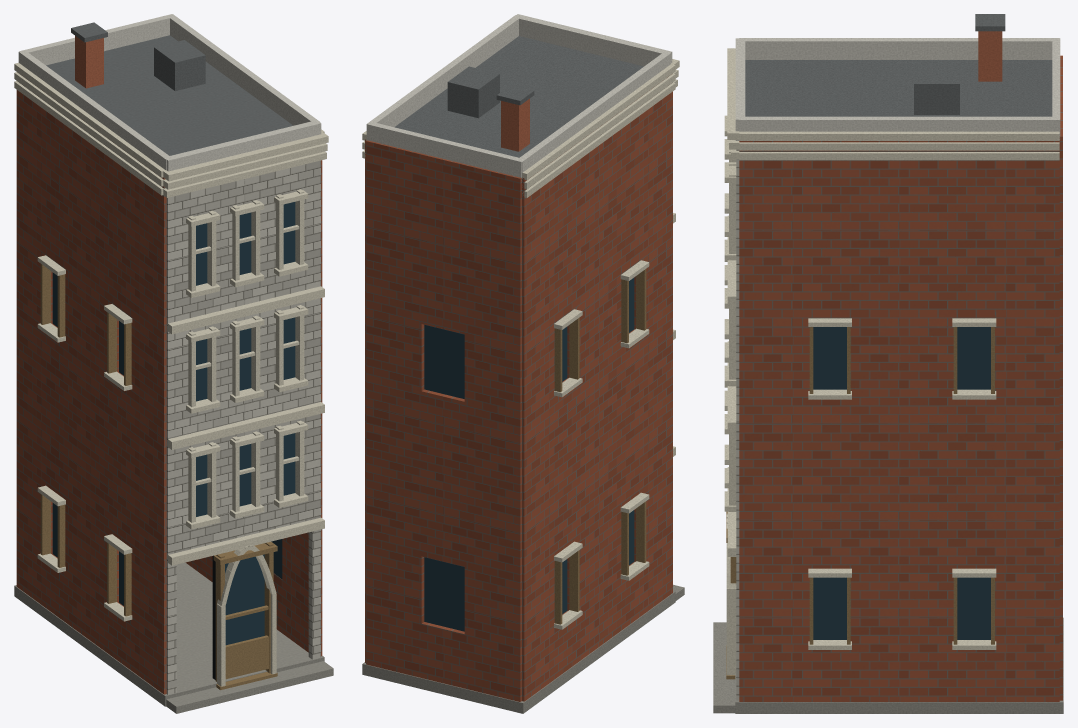
File: OFFC21_lod2.glb
3 renders of one model, left to right at view 1: azimuth 30°, elevation 25°; view 2: azimuth 150°, elevation 25°; view 3: azimuth 270°, elevation 25°, orthographic. The views are drawn at different scales.
Parts seen in each view (by area): view 1: OFFC21_LOD2; view 2: OFFC21_LOD2; view 3: OFFC21_LOD2.
Part boxes in pixels (x1,y1,x2,y2): OFFC21_LOD2: [14, 14, 333, 713]; OFFC21_LOD2: [362, 14, 684, 713]; OFFC21_LOD2: [713, 14, 1063, 713].
Bounding box in the file's own units: 4.11 × 13.05 × 6.57.
Materials: 10 (8 with a texture image).
